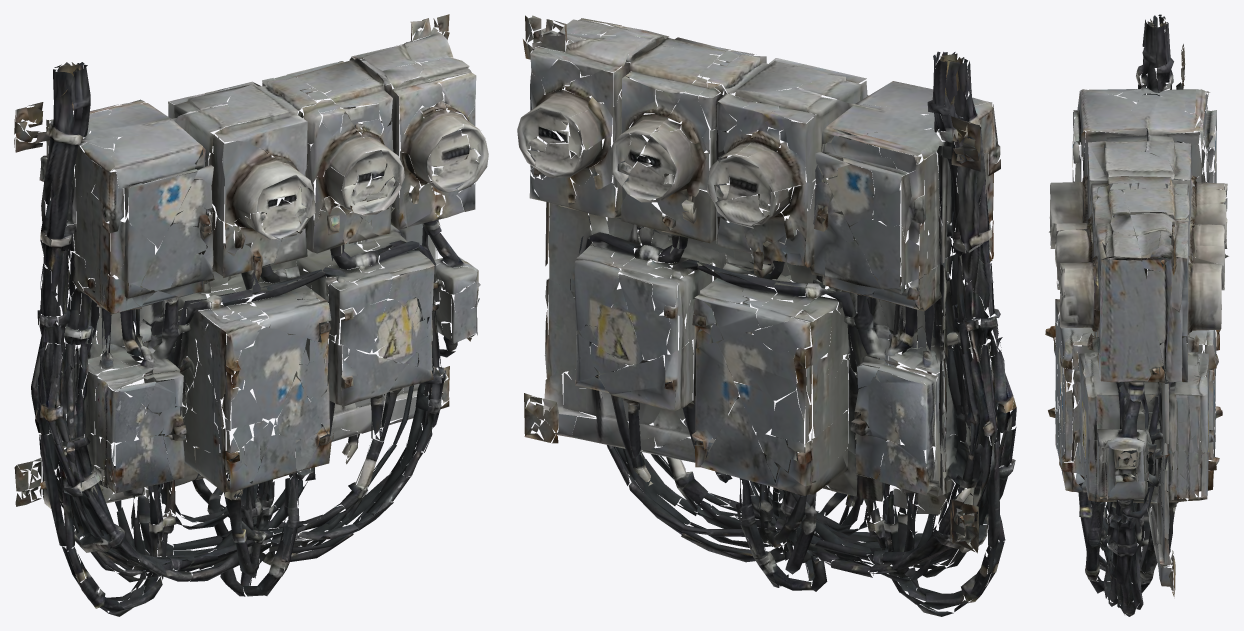
File: m_cable_box.glb
The picture shows the model from 3 angles, left to right: view 1: azimuth 30°, elevation 25°; view 2: azimuth 150°, elevation 25°; view 3: azimuth 270°, elevation 25°; orthographic projection. The views are drawn at different scales.
Parts seen in each view (by area): view 1: tripo_node_9949a249-e544-4414-a492-10692232a534; view 2: tripo_node_9949a249-e544-4414-a492-10692232a534; view 3: tripo_node_9949a249-e544-4414-a492-10692232a534.
Boxes of the visible parts, x1,y1,x2,y2 form: tripo_node_9949a249-e544-4414-a492-10692232a534: (14,14,488,616); tripo_node_9949a249-e544-4414-a492-10692232a534: (517,15,1016,616); tripo_node_9949a249-e544-4414-a492-10692232a534: (1045,14,1228,616).
Size of the model in its own units: 1.36 by 1.65 by 0.5476.
Materials: 1 (1 with a texture image).
